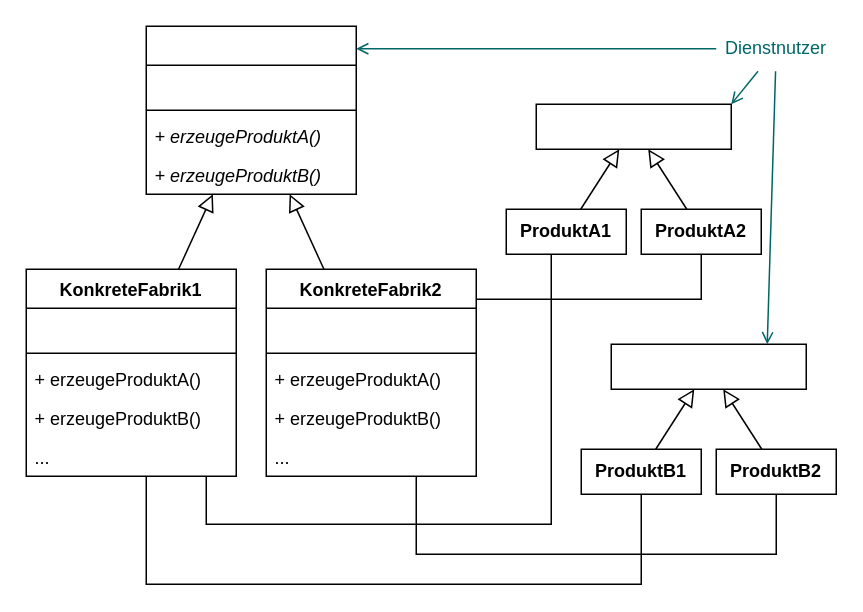
Some shapes in this 863 by 612 pixel diagram are drawn without their labels. The box of each missing label's shape, as (x1, y1, x2, y2) in pixels:
AbstrakteFabrik: (145, 25, 356, 194)
AbstraktesProduktA: (535, 103, 731, 149)
AbstraktesProduktB: (610, 343, 806, 389)
